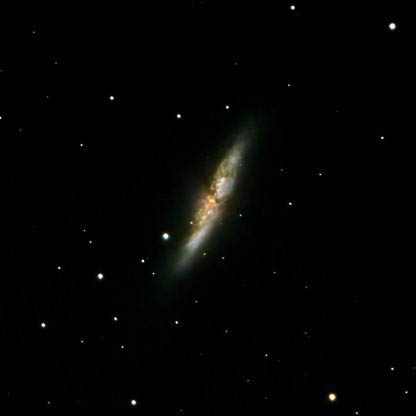Messier 82: (155, 107, 269, 286)
